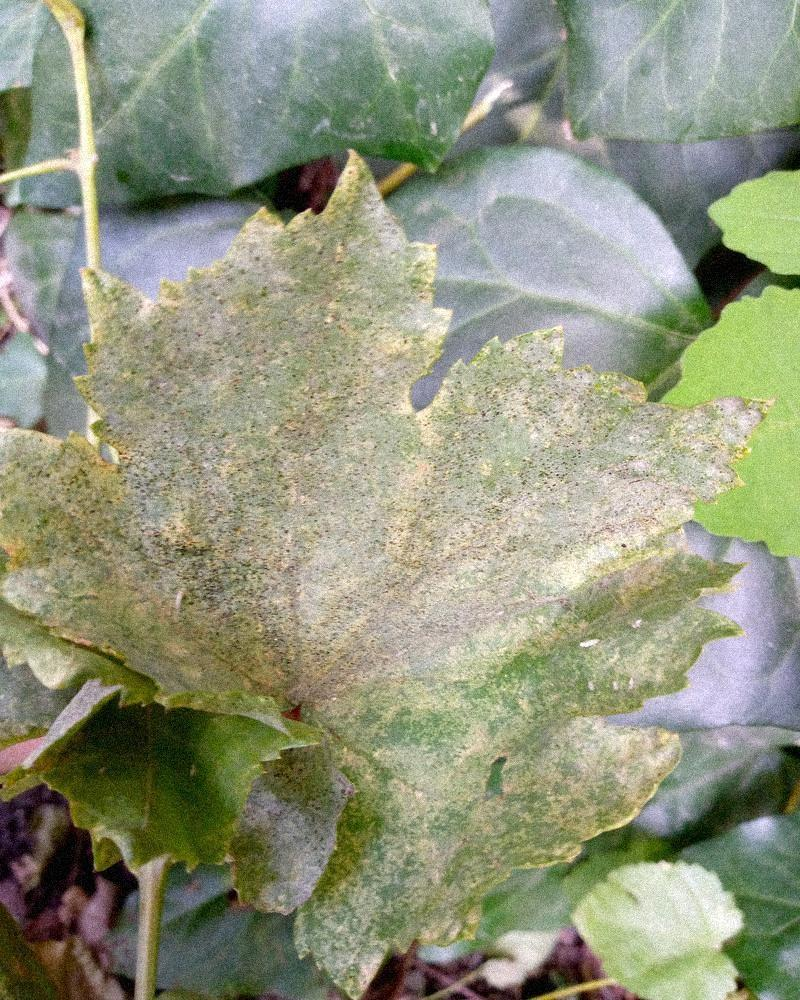Powdery-Mildew: (359, 359, 758, 681), (0, 282, 204, 665), (186, 173, 422, 361), (315, 743, 494, 969), (224, 380, 375, 646), (536, 704, 663, 831)
